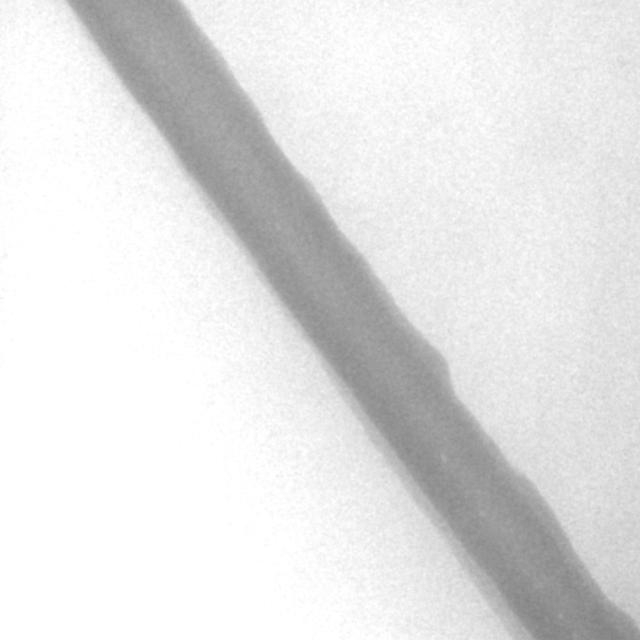air hole: (438, 450, 449, 465), (271, 218, 282, 232)
